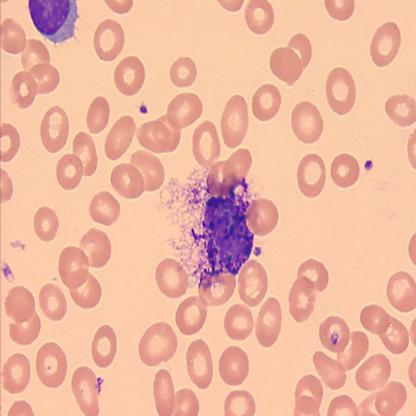Basophil: (187, 188, 257, 285)
